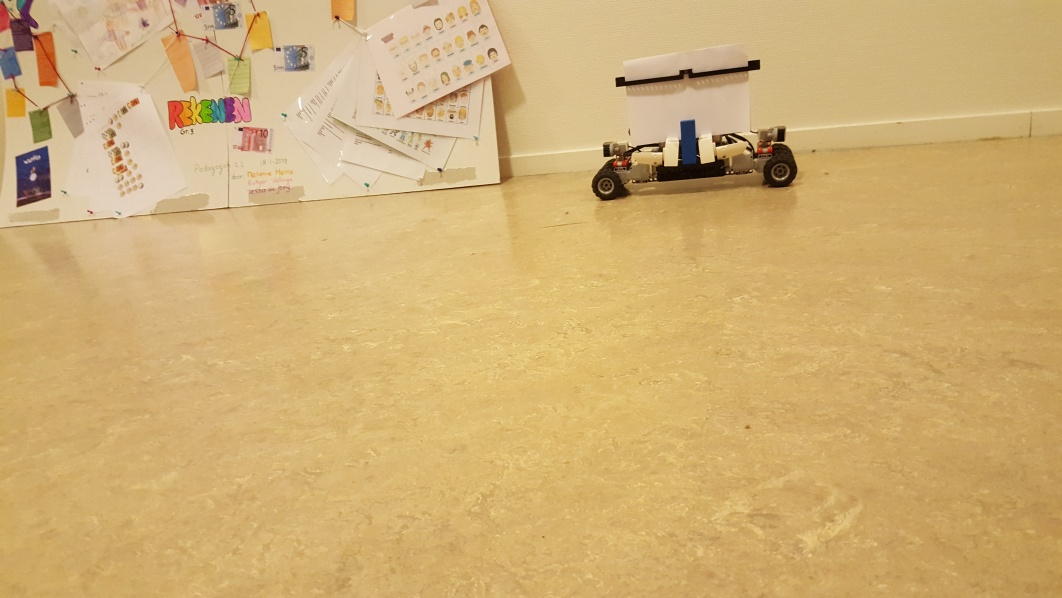beam: (678, 116, 700, 166)
